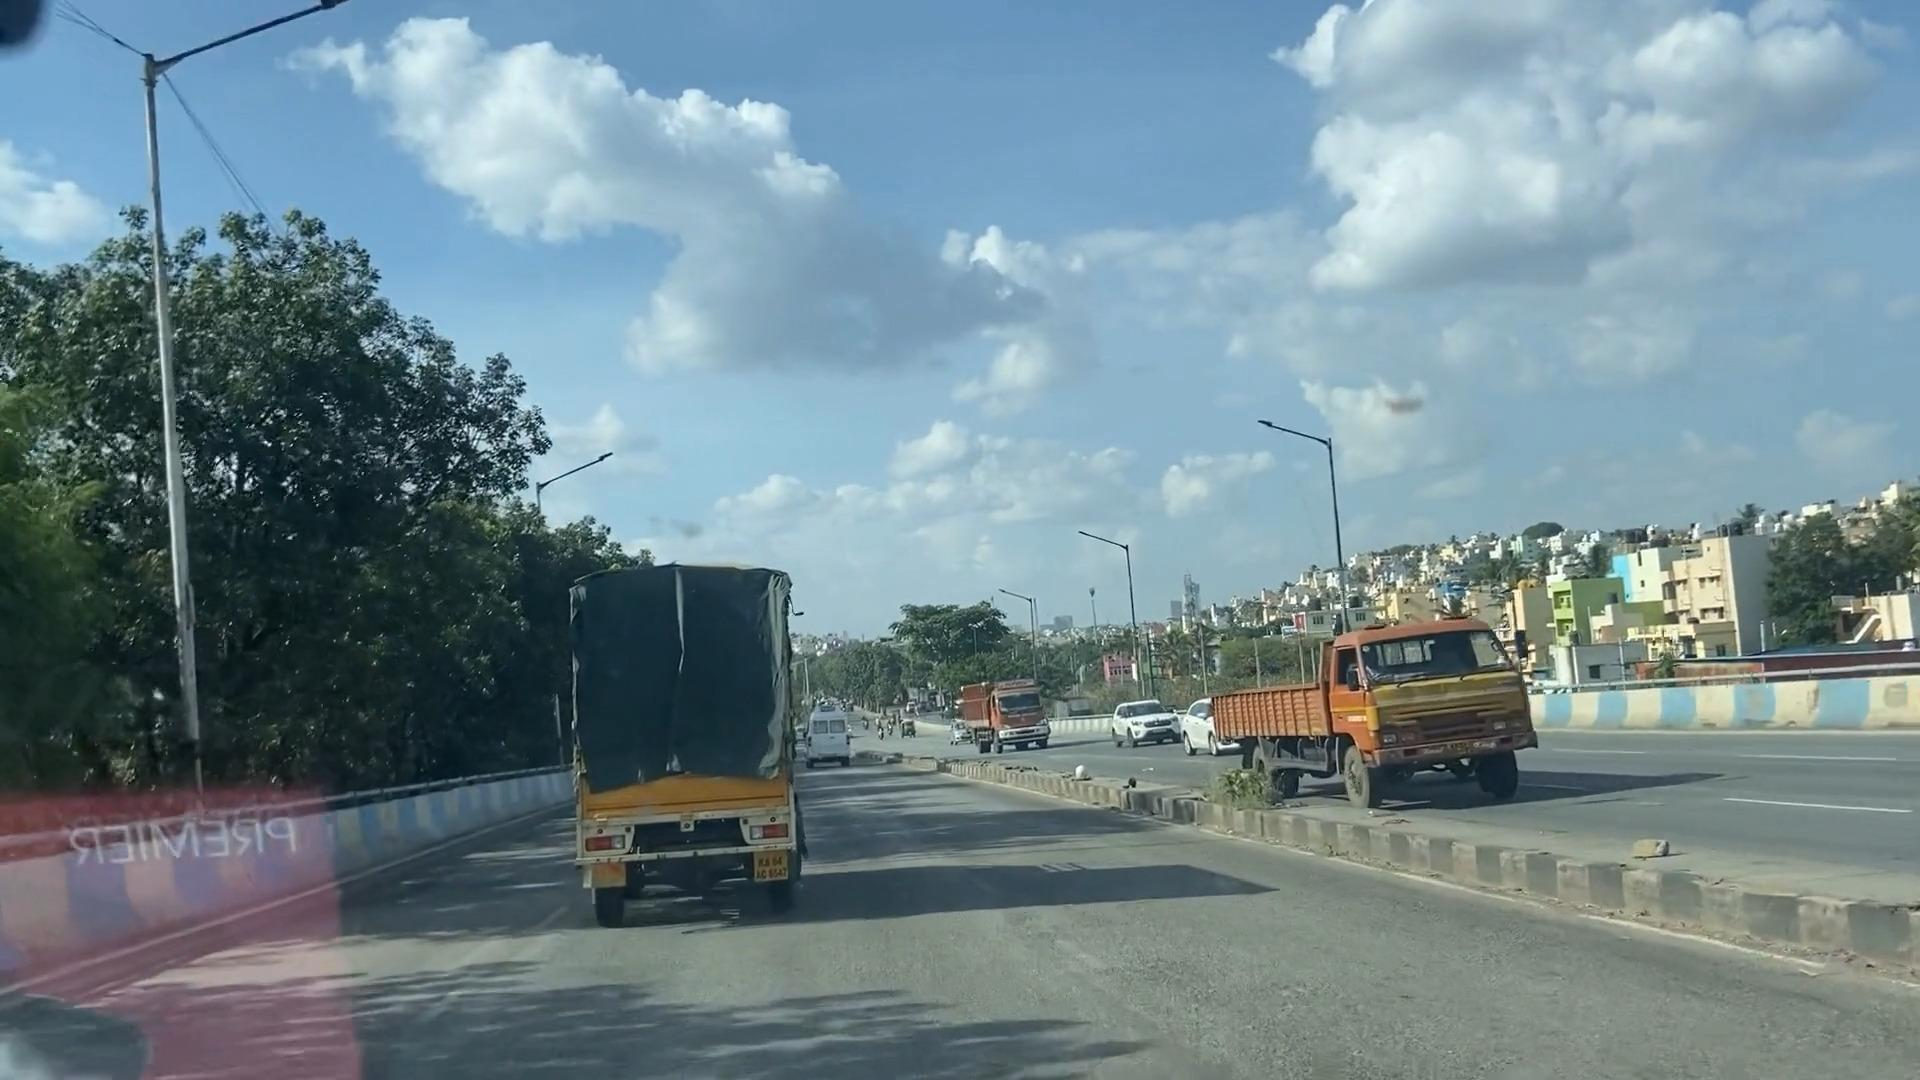HMV: (538, 583, 822, 915)
